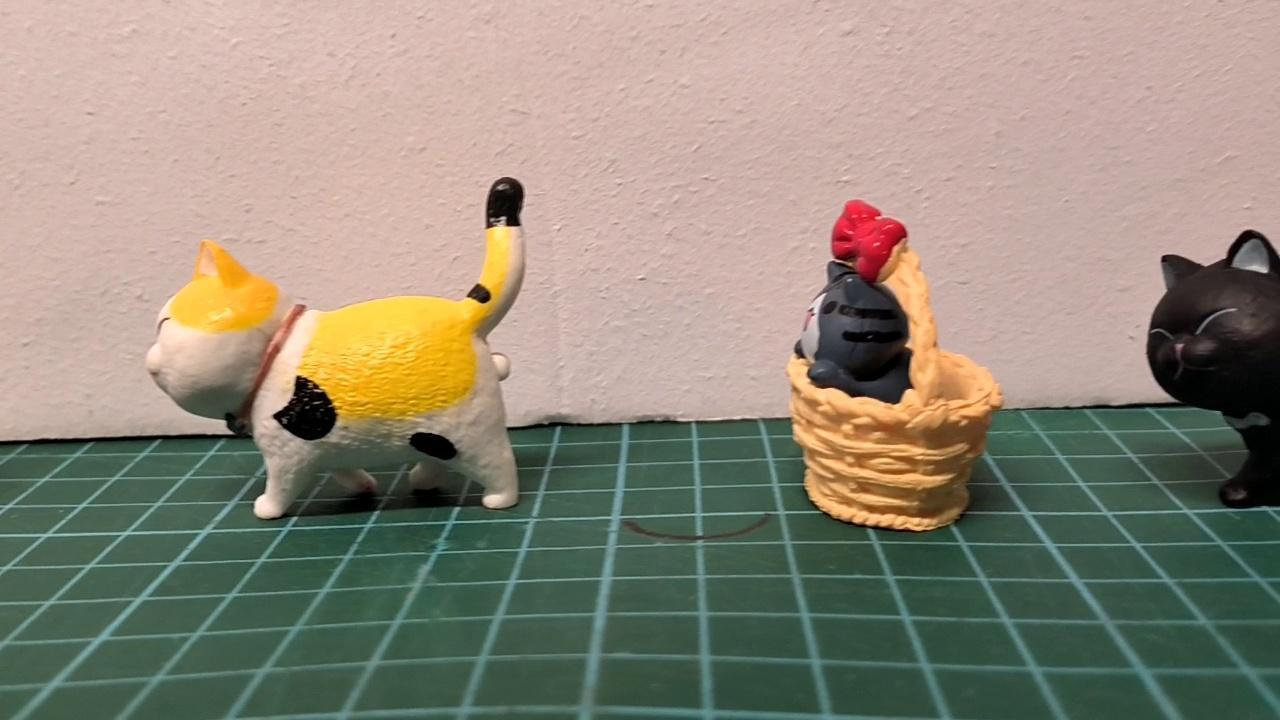pet: (138, 172, 539, 520), (1137, 223, 1280, 510), (786, 248, 928, 413)
